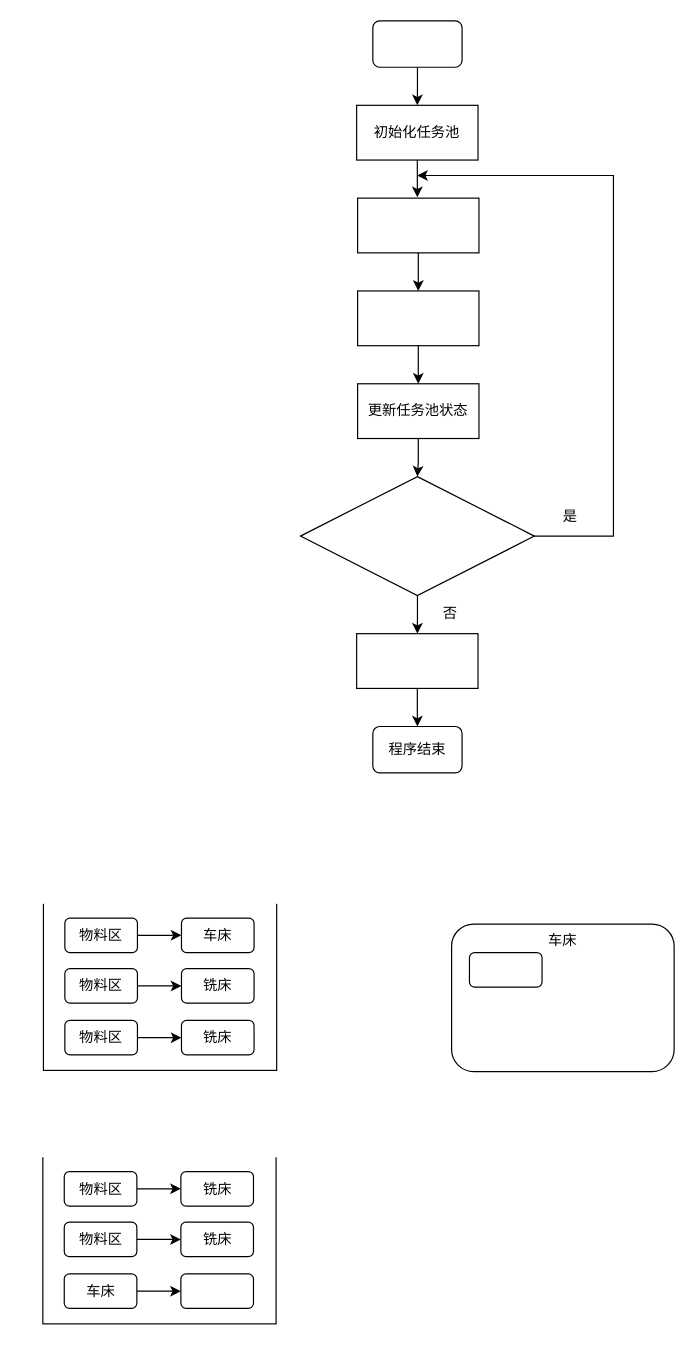
Some shapes in this 695 by 1345 pixel diagram are drawn without their labels. The shapes that lost their labels are listed below. From the top down, each one's centre as x and y in pixels, then its label:
At (x=417, y=43): "程序开始".
At (x=417, y=225): "随机从任务池中抽取任务执行".
At (x=417, y=318): "更新机床状态".
At (x=416, y=535): "任务池任务数量是否大于0 或机床上是否放有产品".
At (x=416, y=660): "订单执行完成，输出任务序列".
At (x=505, y=969): "产品1".
At (x=216, y=1290): "磨床".
